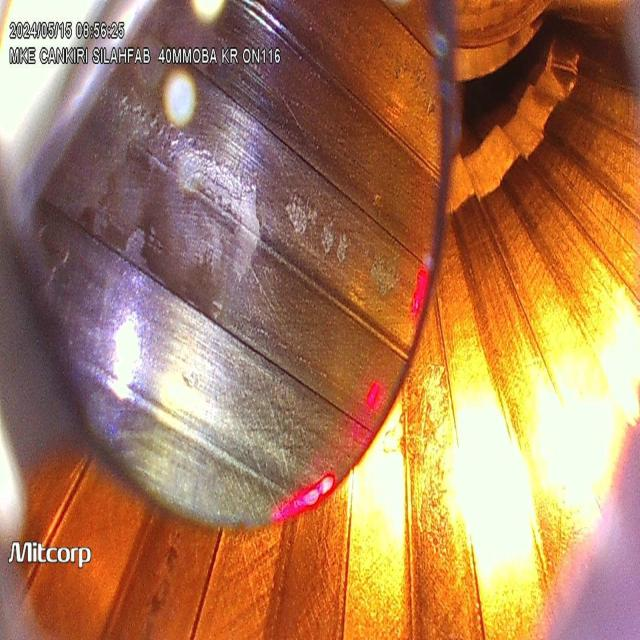hata_8.2: (96, 230, 210, 366)
hata_9.3: (94, 78, 419, 304)
